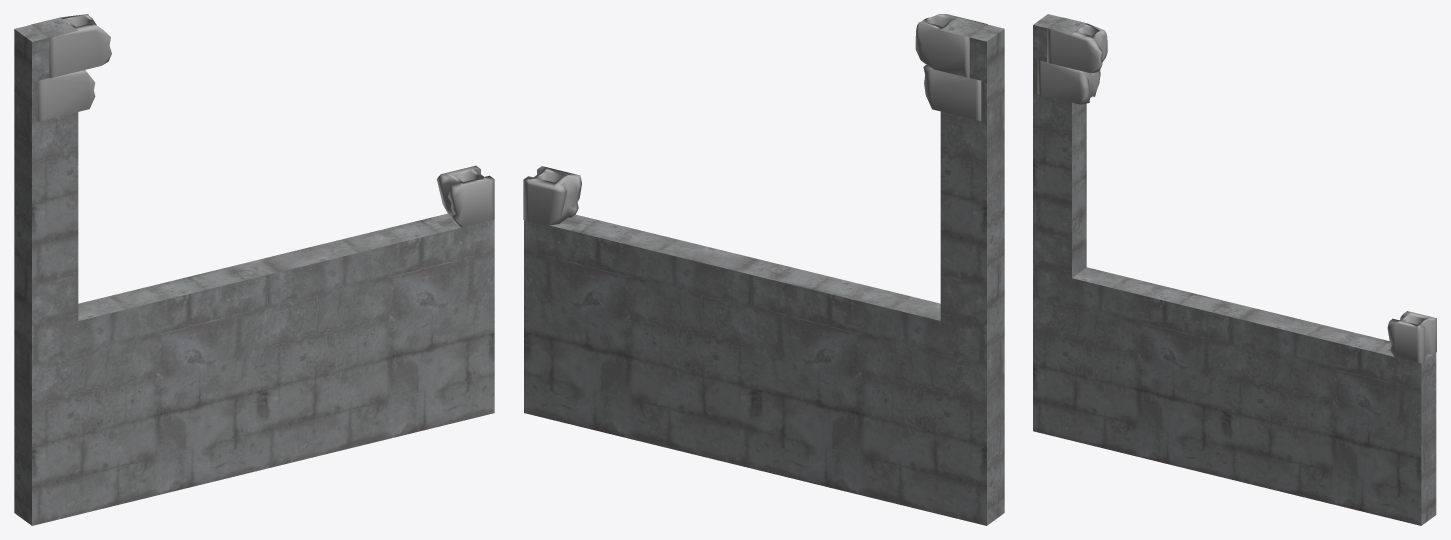
File: wall_1window_02_Broken_01.fbx
The picture shows the model from 3 angles, left to right: view 1: azimuth 30°, elevation 25°; view 2: azimuth 150°, elevation 25°; view 3: azimuth 330°, elevation 25°; orthographic projection. The views are drawn at different scales.
Parts seen in each view (by area): view 1: wall_1window_02_Broken_01; view 2: wall_1window_02_Broken_01; view 3: wall_1window_02_Broken_01.
Part boxes in pixels (x1,y1,x2,y2): wall_1window_02_Broken_01: [14, 14, 494, 525]; wall_1window_02_Broken_01: [523, 14, 1004, 525]; wall_1window_02_Broken_01: [1033, 14, 1436, 525].
Bounding box in the file's own units: 300 × 300 × 21.55.
2 materials, 1 textured.
